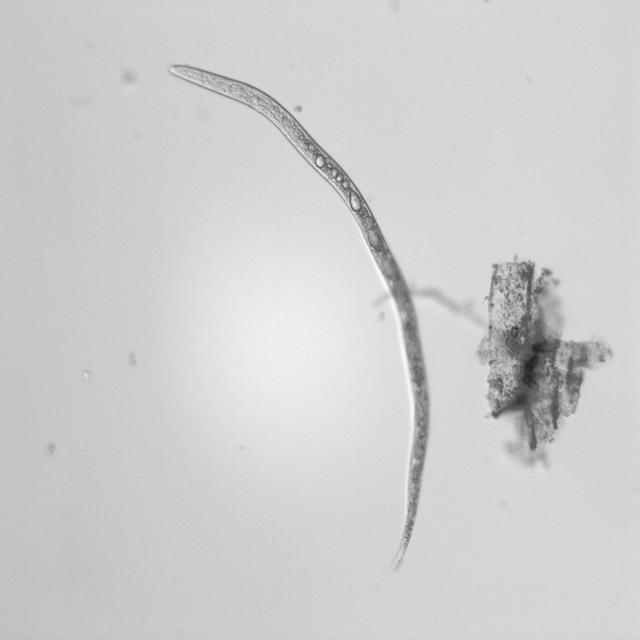Meloidogyne: (166, 61, 446, 584)
